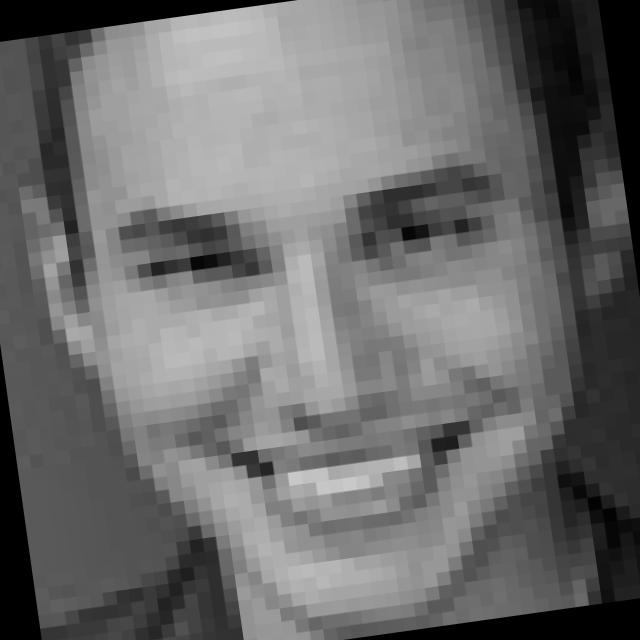happy: (112, 154, 558, 588)
